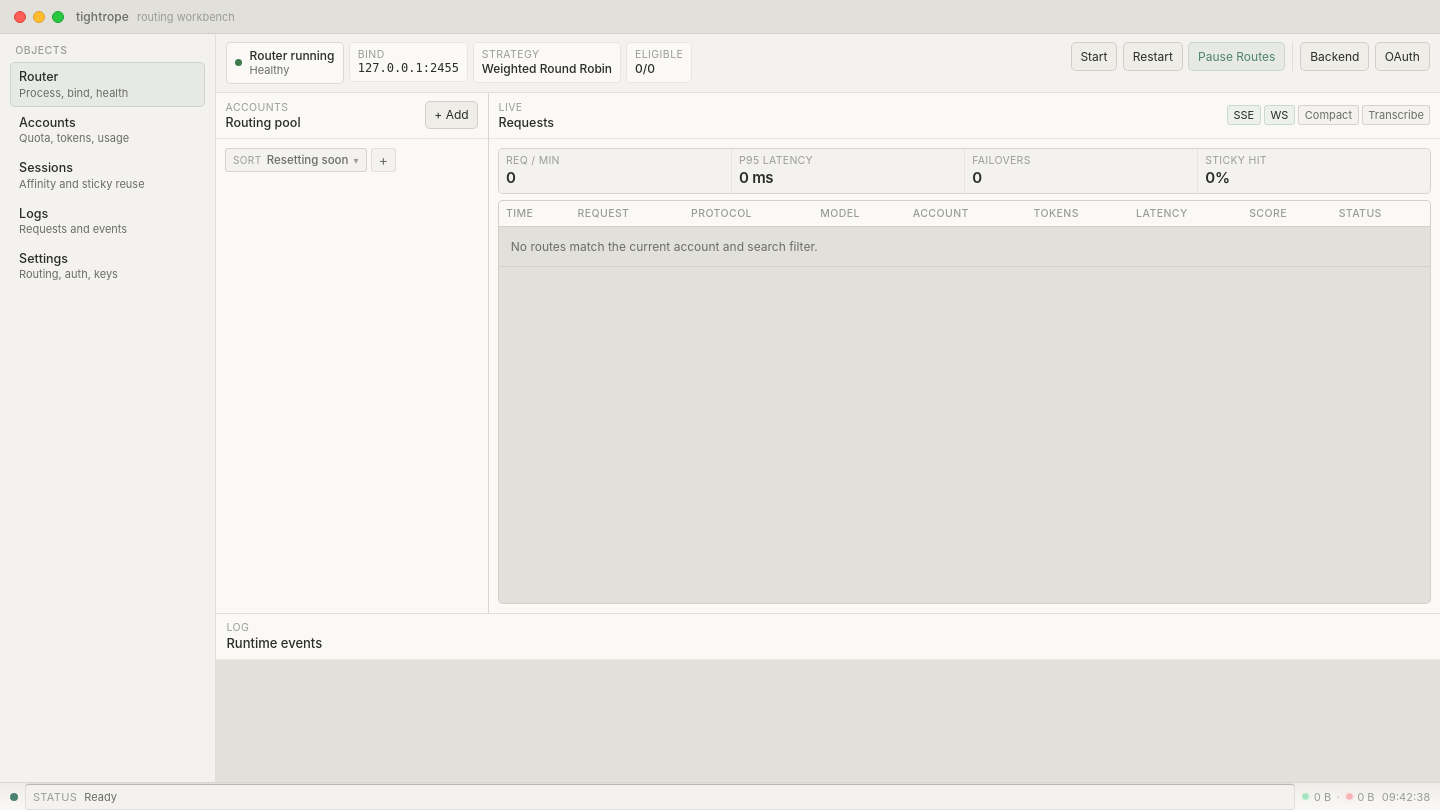
App › renders status bar and reflects runtime notices
Check: the message "Status Ready 0 B · 0 B 09:42:38" is shown, box x1=0 y1=782 x2=1439 y2=809
Check: the text "Ready" is shown, box x1=84 y1=790 x2=117 y2=804
Click the button "Backend" at [1335, 56], box x1=1300 y1=42 x2=1369 y2=70
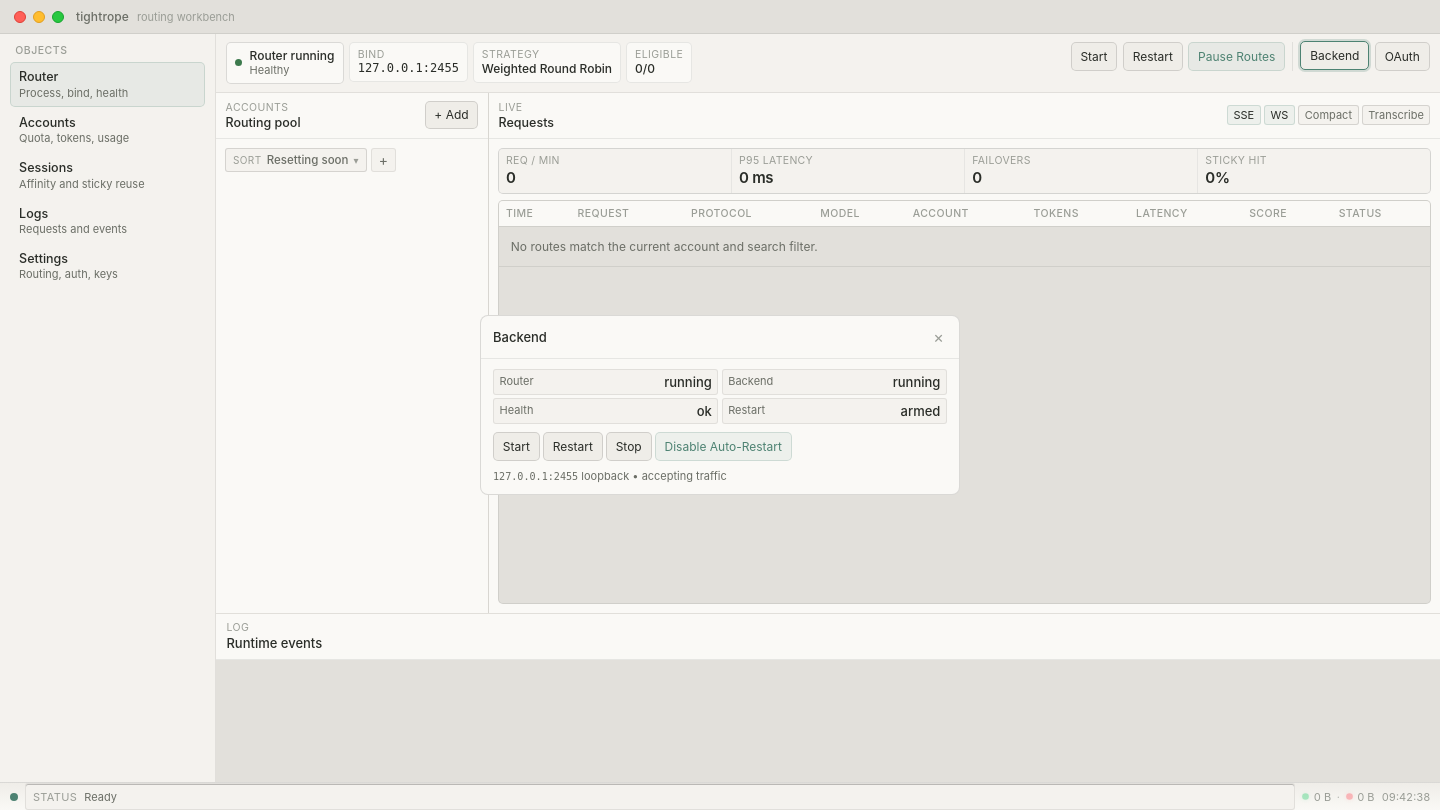
Click the button "Stop" at [629, 446], box x1=606 y1=432 x2=652 y2=461
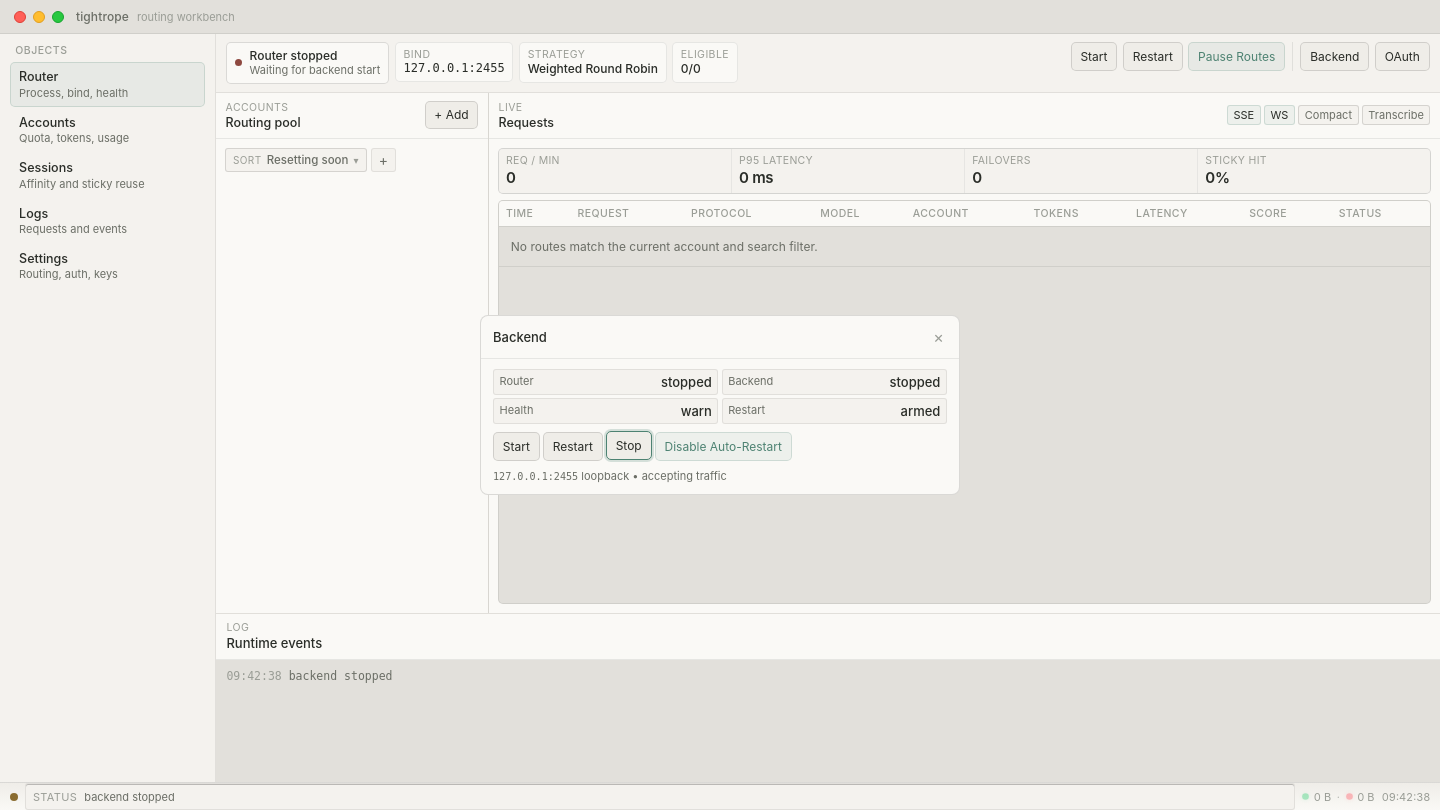
Check: the 2nd text "backend stopped" is shown, box x1=84 y1=790 x2=175 y2=804
